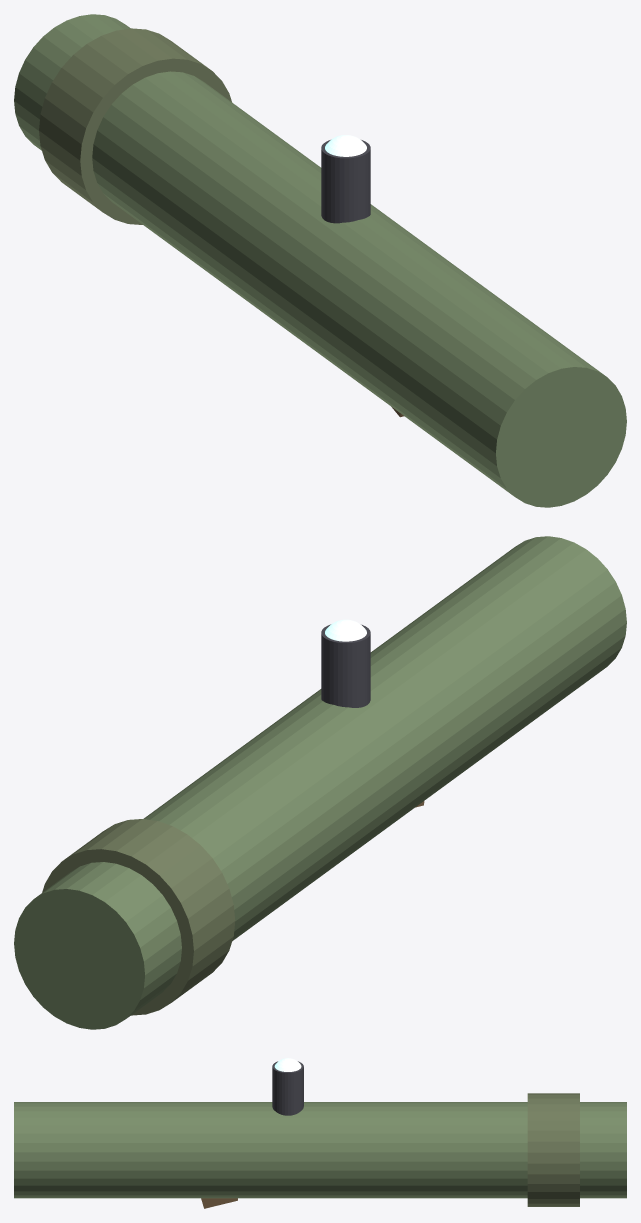
File: bazooka.glb
The picture shows the model from 3 angles, top to bottom: view 1: azimuth 30°, elevation 25°; view 2: azimuth 150°, elevation 25°; view 3: azimuth 270°, elevation 25°; orthographic projection. The views are drawn at different scales.
Parts seen in each view (by area): view 1: Cylinder, Cylinder.001, Cylinder.002, Sphere; view 2: Cylinder, Cylinder.001, Cylinder.002, Sphere; view 3: Cylinder, Cylinder.001, Cylinder.002, Sphere, Cube.
Part boxes in pixels (left/top/right/bottom): Cylinder: left=14, top=14, right=626, bottom=507; Cylinder.001: left=39, top=28, right=231, bottom=224; Cylinder.002: left=321, top=140, right=370, bottom=223; Sphere: left=325, top=135, right=366, bottom=156; Cylinder: left=14, top=536, right=626, bottom=1029; Cylinder.001: left=42, top=819, right=235, bottom=1015; Cylinder.002: left=321, top=624, right=370, bottom=707; Sphere: left=325, top=619, right=366, bottom=641; Cylinder: left=14, top=1102, right=626, bottom=1198; Cylinder.001: left=527, top=1093, right=579, bottom=1206; Cylinder.002: left=272, top=1061, right=303, bottom=1115; Sphere: left=274, top=1058, right=301, bottom=1071; Cube: left=201, top=1198, right=237, bottom=1208.
Size of the model in its own units: 0.1757 by 0.248 by 0.9459.
